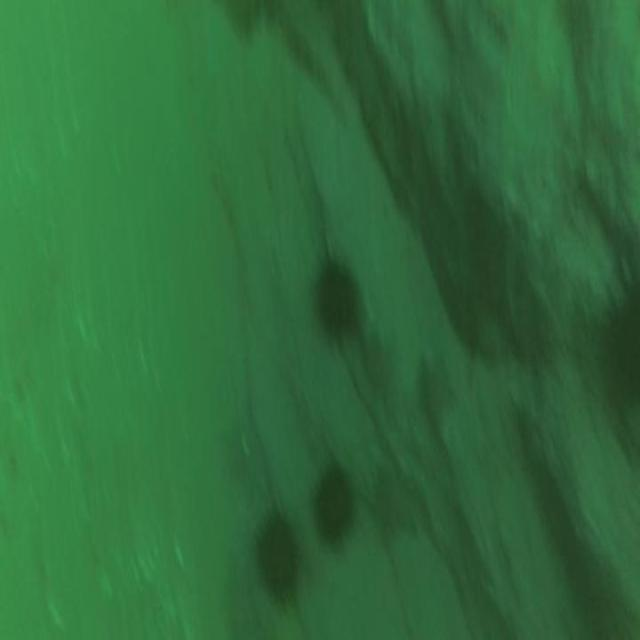echinus: (596, 258, 640, 428), (249, 502, 305, 616), (304, 455, 361, 555), (311, 242, 364, 349)
starfish: (364, 459, 422, 544), (417, 348, 459, 434), (360, 326, 402, 406)
